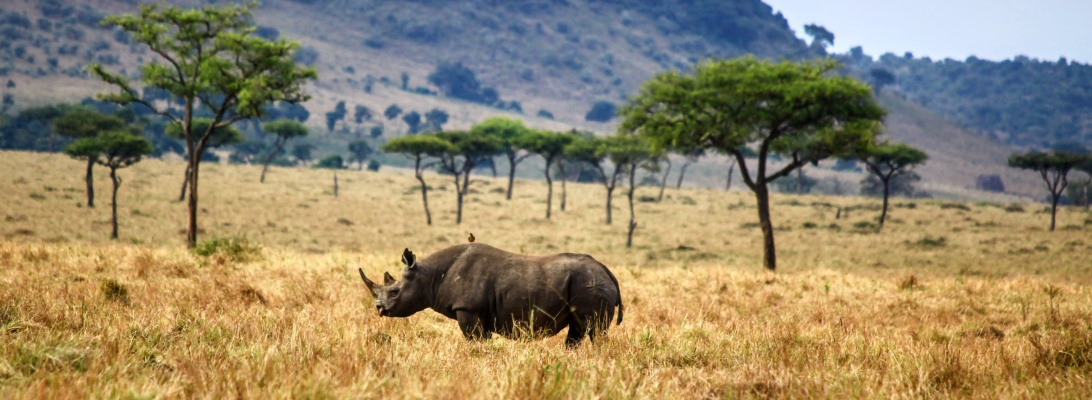rhino: (490, 296, 768, 400)
